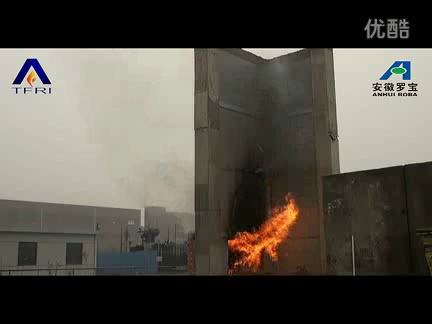fire: (226, 189, 303, 272)
